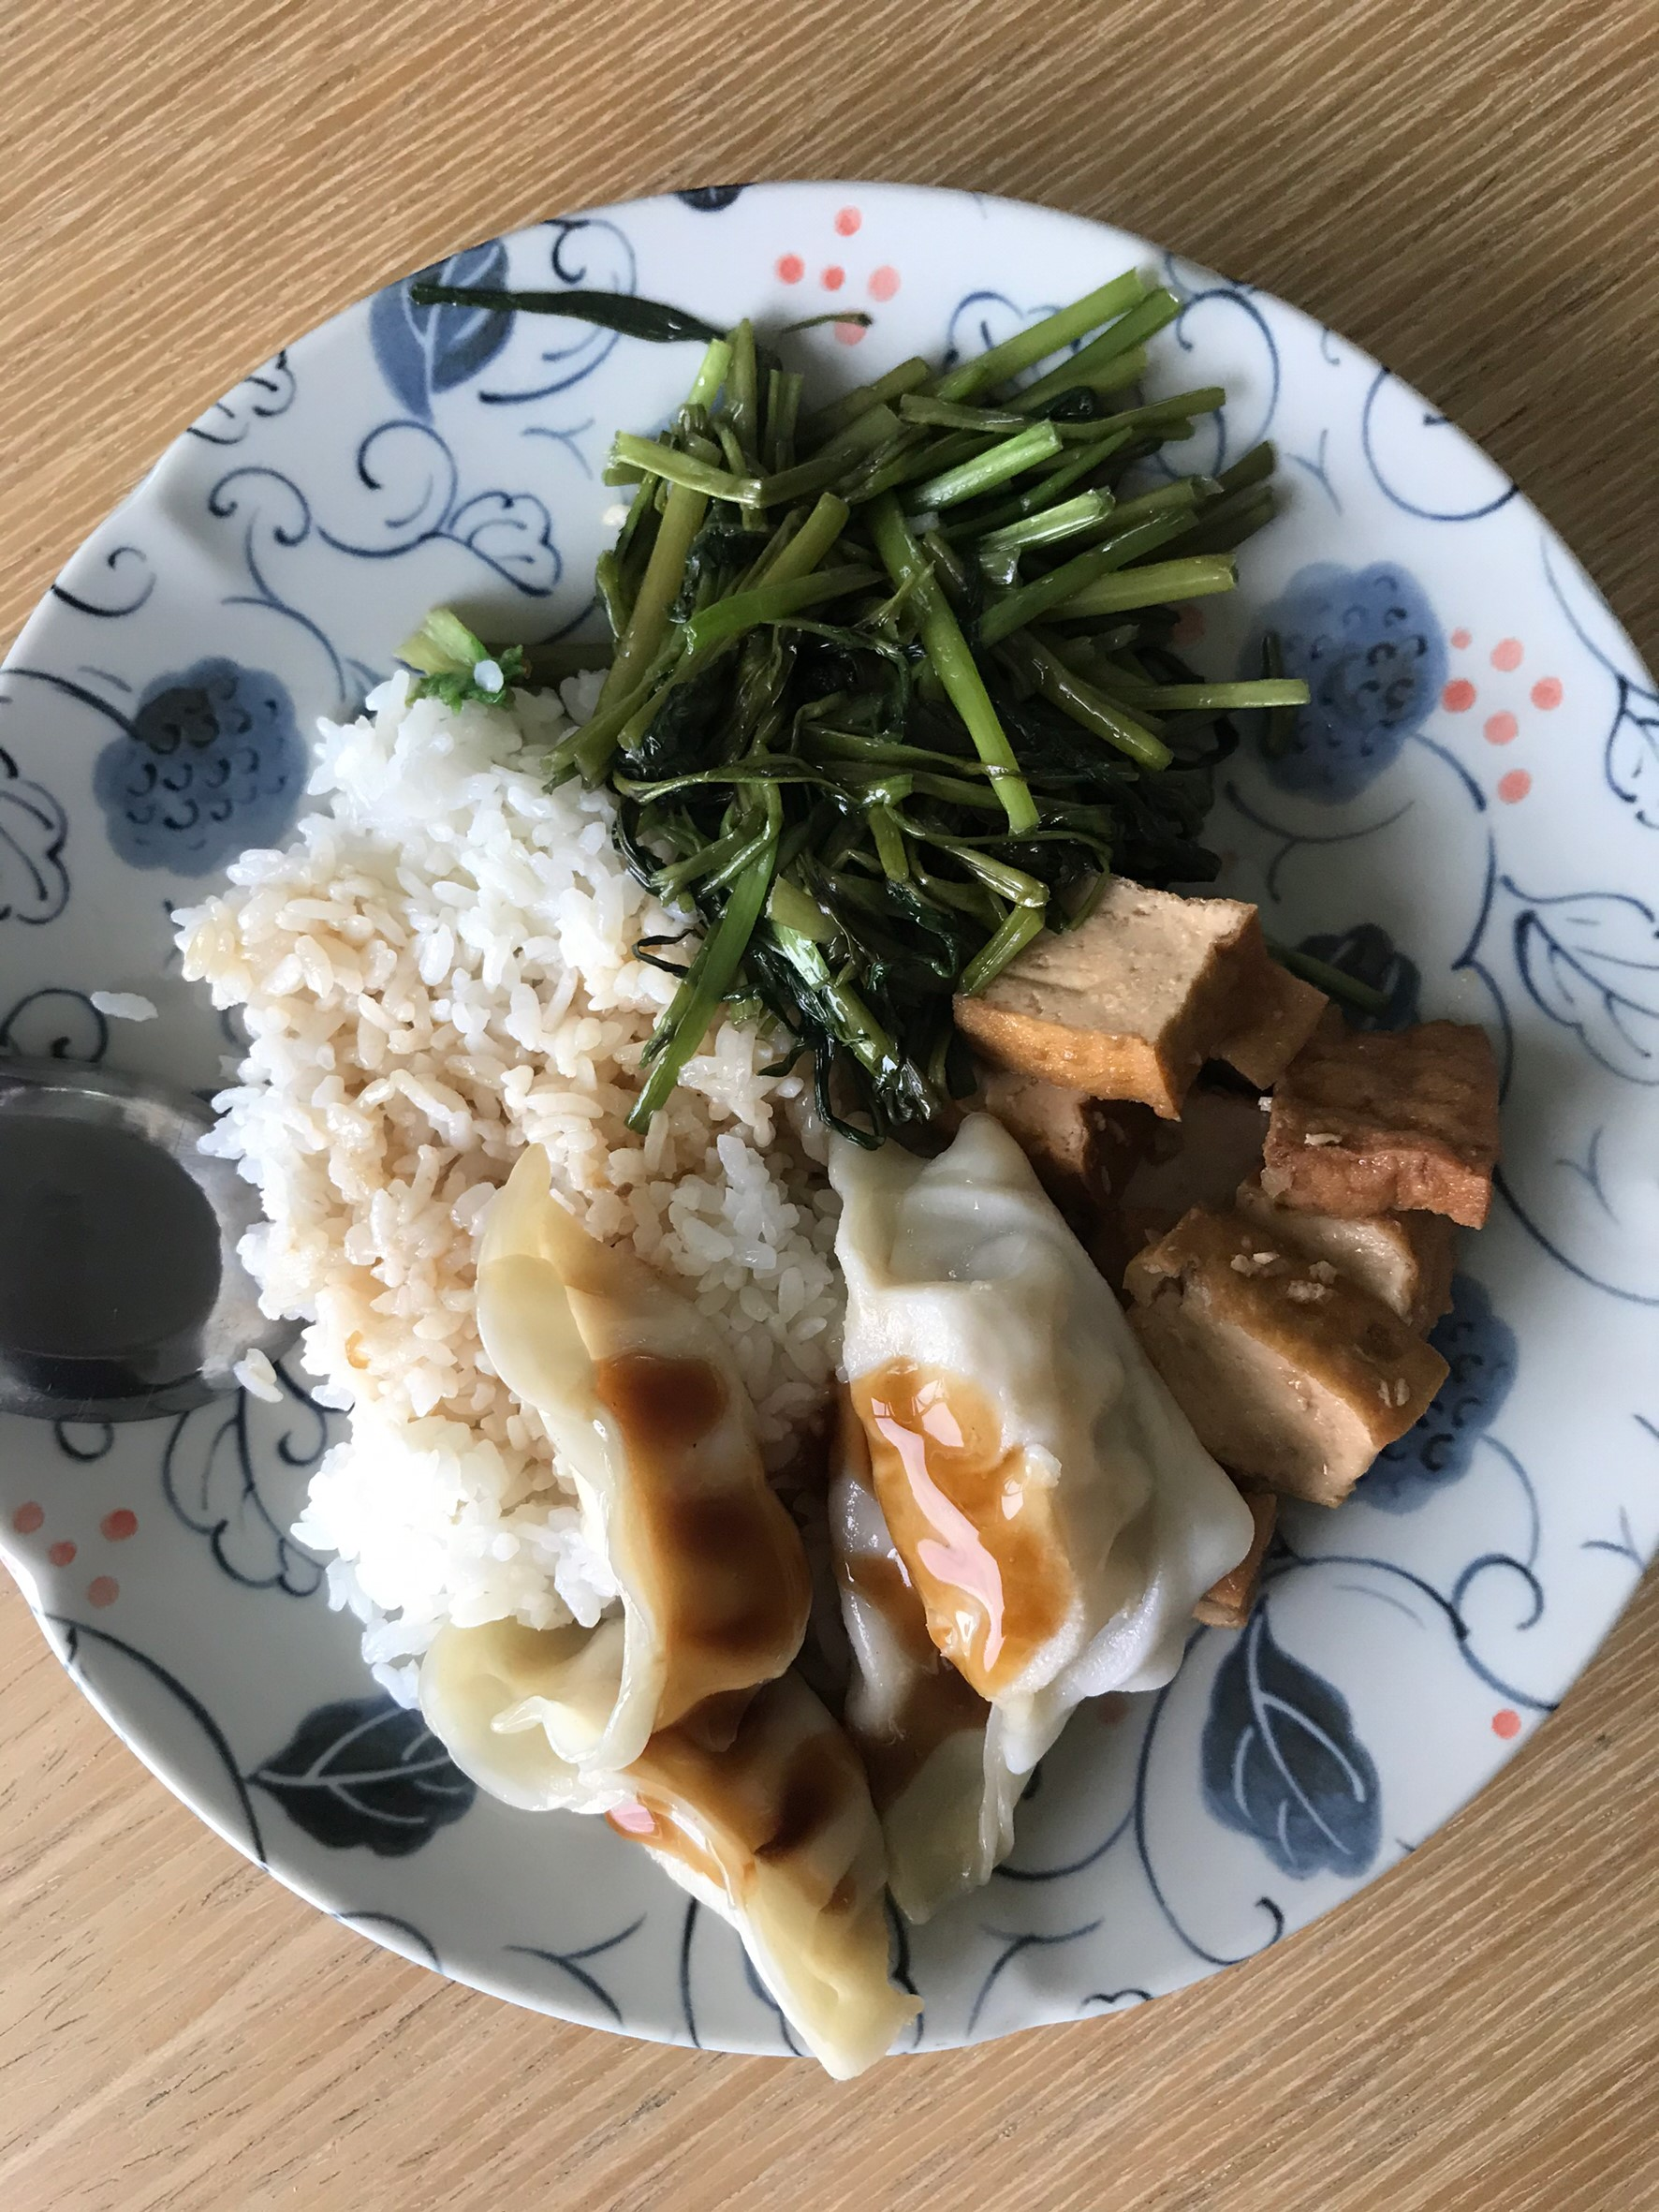fried_dumplings: (530, 1225, 1176, 1900)
rice: (256, 798, 711, 1227)
water_spinach: (648, 429, 1110, 885)
